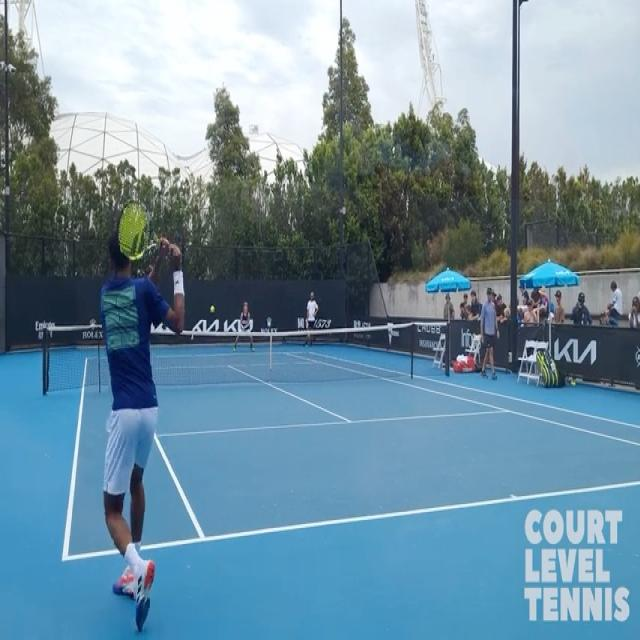backhand-finish: (88, 201, 191, 628)
